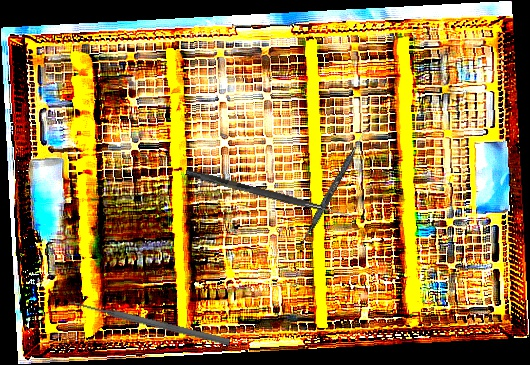Hook Surgical: (184, 168, 358, 221)
Pusher: (68, 297, 231, 347)
Spatula Surgical: (298, 124, 370, 250)
